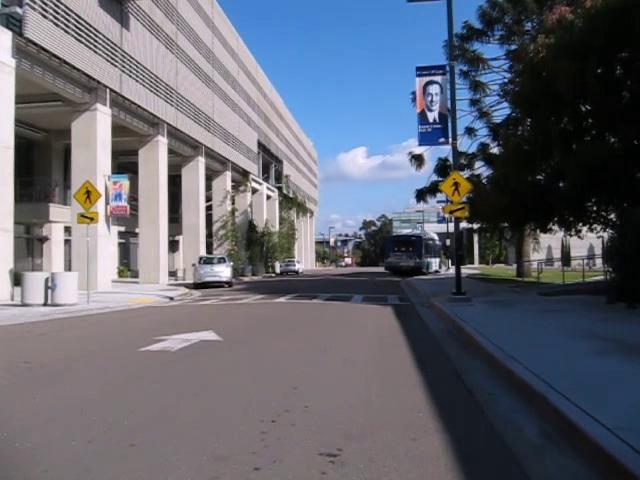pedestrianCrossing: (438, 168, 473, 205), (73, 179, 103, 210)
